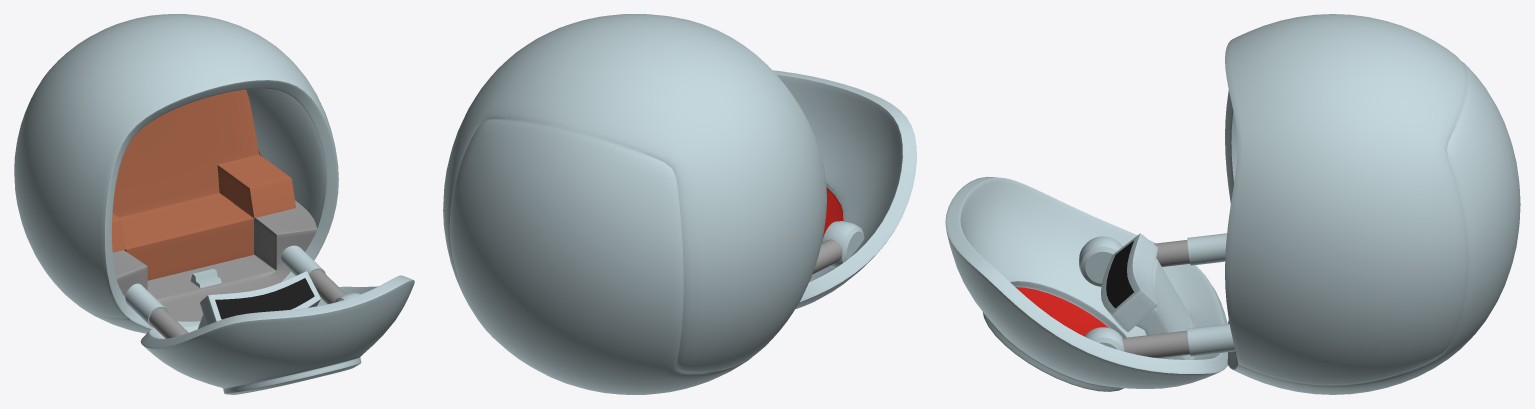
The model's file is Nave.fbx.
3 views of the same model, side by side, from view 1: azimuth 30°, elevation 25°; view 2: azimuth 150°, elevation 25°; view 3: azimuth 270°, elevation 25° (orthographic). The views are drawn at different scales.
Parts seen in each view (by area): view 1: Cube.004, Cube.006, Cube.007, Sphere; view 2: Cube.004, Cube.007, Sphere; view 3: Cube.004, Cube.007, Sphere.
Boxes of the visible parts, x1=… form: Cube.004: x1=14, y1=14, x2=338, y2=333; Cube.006: x1=112, y1=89, x2=295, y2=280; Cube.007: x1=140, y1=271, x2=414, y2=394; Sphere: x1=125, y1=245, x2=360, y2=338; Cube.004: x1=443, y1=14, x2=826, y2=394; Cube.007: x1=773, y1=70, x2=916, y2=309; Sphere: x1=812, y1=221, x2=864, y2=274; Cube.004: x1=1225, y1=14, x2=1520, y2=394; Cube.007: x1=945, y1=176, x2=1227, y2=391; Sphere: x1=1079, y1=233, x2=1235, y2=358.
Bounding box in the file's own units: 166 × 167 × 254.
